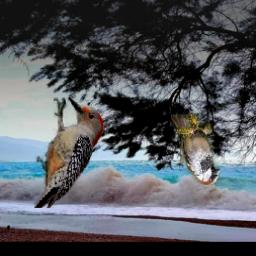Sparrow: (171, 115, 220, 186)
Woodpecker: (34, 98, 103, 209)
